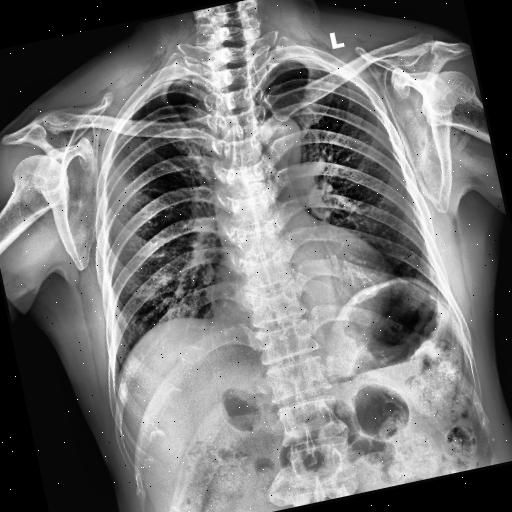0- Aortic enlargement: (248, 107, 304, 171), (258, 107, 306, 161), (252, 110, 304, 157)
3- Cardiomegaly: (200, 233, 401, 338), (202, 239, 402, 331), (201, 248, 398, 331)
